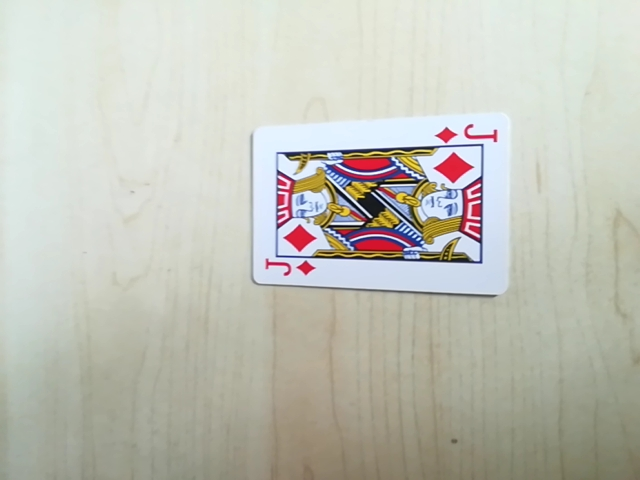fk j: (434, 119, 498, 150), (260, 257, 315, 284)
